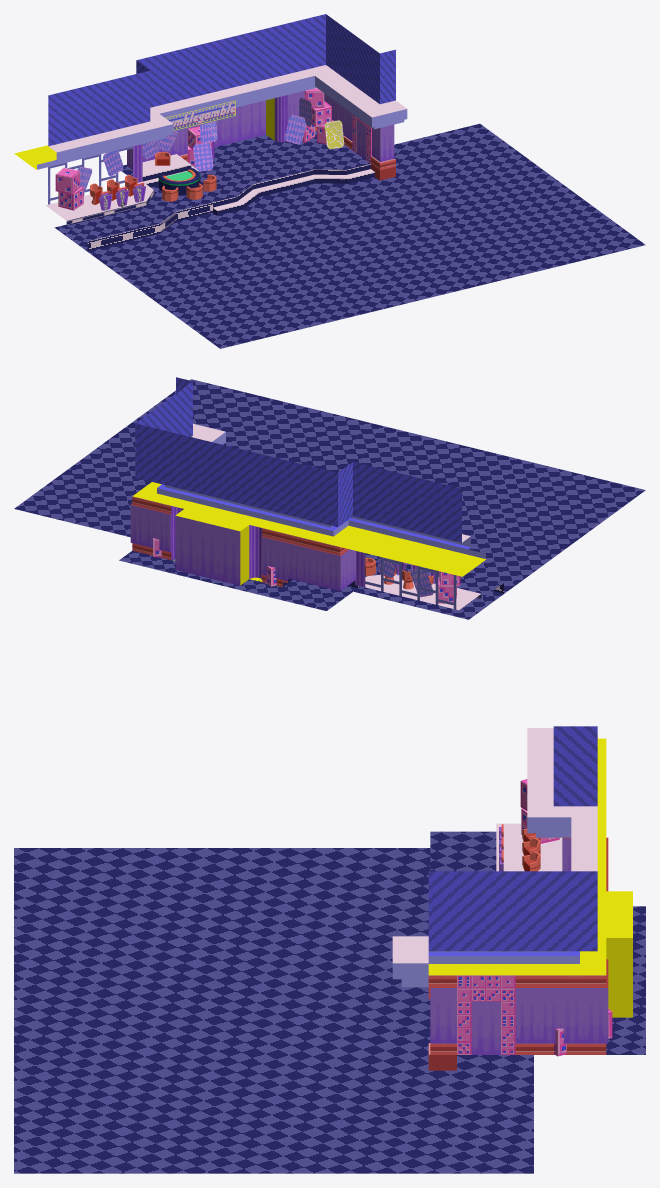
The model's file is rg_stage.obj.
The picture shows the model from 3 angles, top to bottom: view 1: azimuth 30°, elevation 25°; view 2: azimuth 150°, elevation 25°; view 3: azimuth 270°, elevation 25°; orthographic projection. The views are drawn at different scales.
Parts seen in each view (by area): view 1: plane, chair, table, mesh, tall_chair; view 2: plane; view 3: plane.
Boxes of the visible parts, x1,y1,x2,y2 form: plane: (14,14,645,348); chair: (155,152,216,201); table: (158,167,200,194); mesh: (98,182,145,210); tall_chair: (90,175,137,204); plane: (14,377,645,619); plane: (14,726,645,1173).
Bounding box in the file's own units: 27.77 × 7.64 × 21.89.
Materials: 23 (23 with a texture image).
